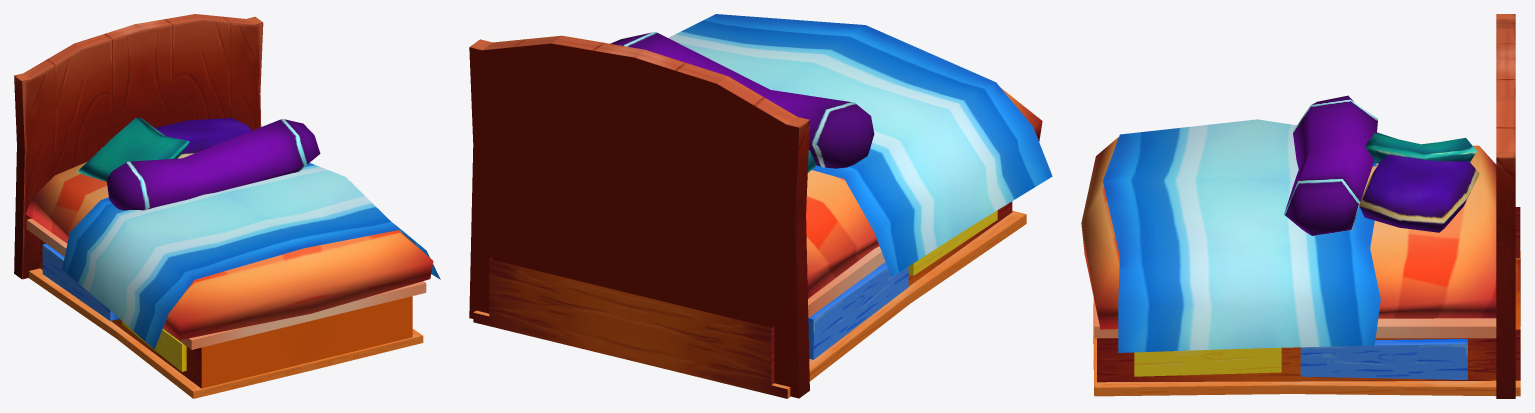
The model's file is bedGenericLv8.fbx.
The picture shows the model from 3 angles, left to right: view 1: azimuth 30°, elevation 25°; view 2: azimuth 150°, elevation 25°; view 3: azimuth 270°, elevation 25°; orthographic projection. The views are drawn at different scales.
Visible parts, largest first — view 1: polySurface7, pPlane97, pCube142, pCube202, pCylinder71, polySurface6, pCube167, pCube165; view 2: polySurface7, pPlane97, pCube202, pCylinder71, pCube142, polySurface6; view 3: pPlane97, pCube202, pCube142, pCylinder71, polySurface7, pCube165, polySurface6, pCube167.
Boxes of the visible parts, x1,y1,x2,y2 form: polySurface7: (14, 14, 263, 279); pPlane97: (62, 162, 440, 349); pCube142: (26, 162, 433, 339); pCube202: (29, 239, 423, 398); pCylinder71: (106, 119, 320, 210); polySurface6: (26, 218, 426, 349); pCube167: (77, 118, 189, 181); pCube165: (155, 118, 251, 158); polySurface7: (469, 35, 809, 398); pPlane97: (668, 14, 1052, 277); pCube202: (473, 201, 1026, 398); pCylinder71: (610, 31, 874, 168); pCube142: (806, 87, 1042, 298); polySurface6: (808, 246, 885, 317); pPlane97: (1103, 119, 1380, 352); pCube202: (1093, 207, 1520, 396); pCube142: (1081, 137, 1496, 329); pCylinder71: (1284, 95, 1377, 235); polySurface7: (1496, 14, 1515, 398); pCube165: (1359, 154, 1479, 232); polySurface6: (1094, 301, 1496, 338); pCube167: (1365, 132, 1477, 163).
Bounding box in the file's own units: 7.91 × 5.82 × 8.62.
